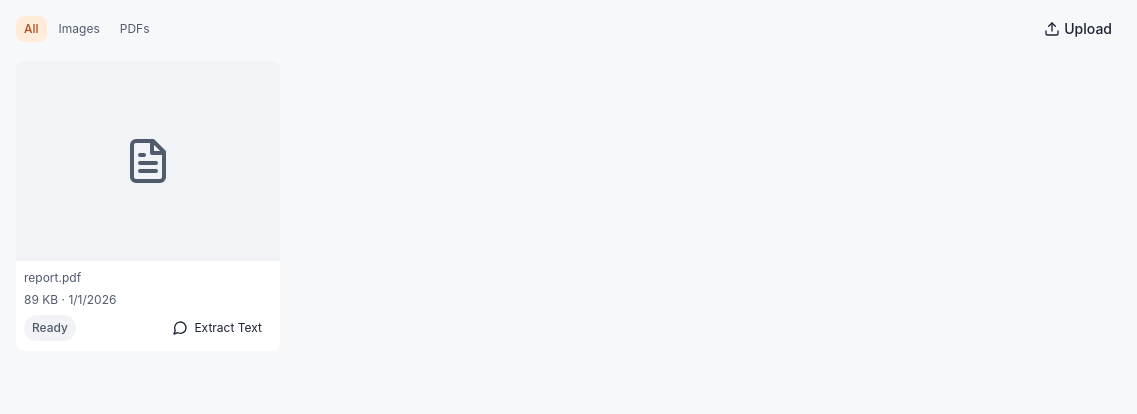
Test: OCRTab › shows Failed badge on extraction error
The width and height of the screenshot is (1137, 414).
Expected: the text "report.pdf" is shown, [24,270,81,285]
Click the button "Extract Text" at (217, 328), box [162,313,272,343]
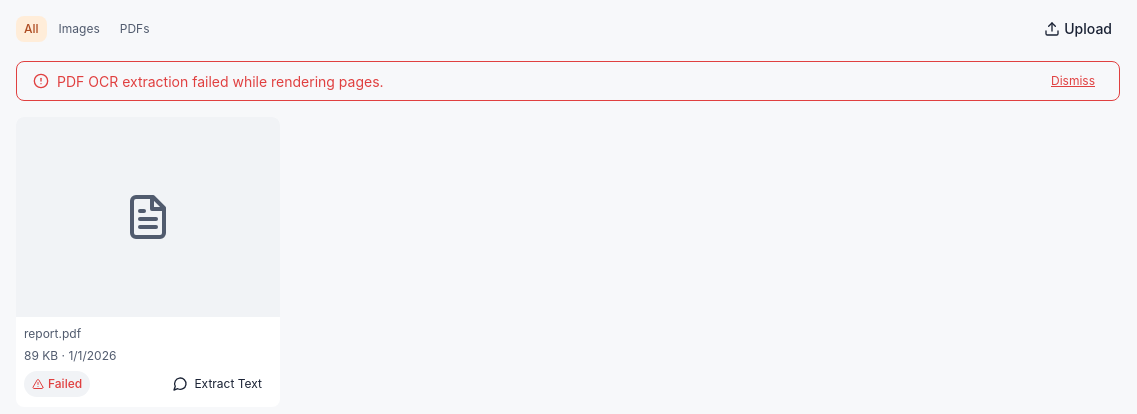
Expected: the text "Failed" is shown, [24,371,90,397]
Expected: the text "PDF OCR extraction failed while rendering pages." is shown, [57,70,384,92]
